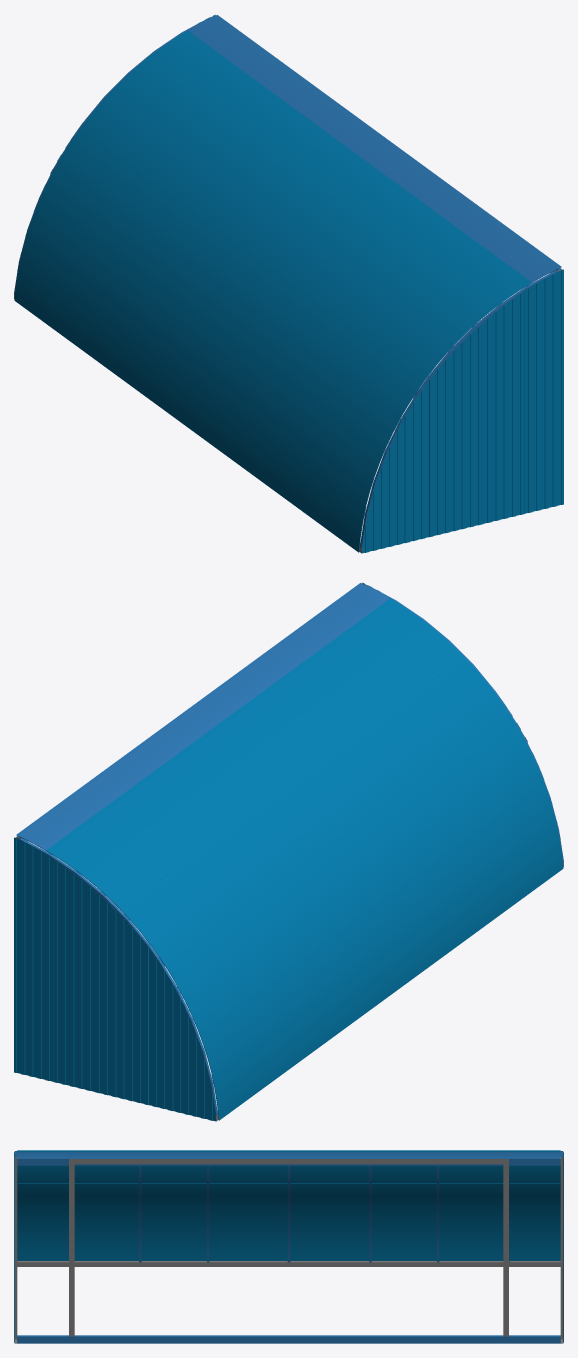
Rendered from Phase01_CanopyRight.fbx.
3 views of the same model, one above another, from view 1: azimuth 30°, elevation 25°; view 2: azimuth 150°, elevation 25°; view 3: azimuth 270°, elevation 25° (orthographic). The views are drawn at different scales.
Visible parts, largest first — view 1: RAL 5015 (×3), Проф лист 3 — копия:Проф лист 3 — копия:746985, Проф лист 3 2:Проф лист 3 2:755497, Проф лист 3:Проф лист 3:731216, Проф лист 3 — копия:Проф лист 3 — копия:760935, Проф лист 3 2:Проф лист 3 2:760088, Проф лист 3:Проф лист 3:761790, Проф лист 3 2 — копия:Проф лист 3 2 — копия:757336, Проф лист 3 2 — копия:Проф лист 3 2 — копия:759236, Проф лист 4:Проф лист 4:726611, Проф лист 4:Проф лист 4:762641, Фланец-балка вертикальная:Фланец-балка вертикальная:719820; view 2: RAL 5015 (×3), Проф лист 3 — копия:Проф лист 3 — копия:746985, Проф лист 3 2:Проф лист 3 2:755497, Проф лист 3:Проф лист 3:731216, Проф лист 3 — копия:Проф лист 3 — копия:760935, Проф лист 3 2:Проф лист 3 2:760088, Проф лист 3:Проф лист 3:761790, Проф лист 3 2 — копия:Проф лист 3 2 — копия:757336, Проф лист 3 2 — копия:Проф лист 3 2 — копия:759236, Проф лист 4:Проф лист 4:726611, Проф лист 4:Проф лист 4:762641, Фланец-балка вертикальная:Фланец-балка вертикальная:720843; view 3: Проф лист 3 2:Проф лист 3 2:755497, Проф лист 3 2:Проф лист 3 2:760088, Проф лист 3 2 — копия:Проф лист 3 2 — копия:757336, Проф лист 3 2 — копия:Проф лист 3 2 — копия:759236, Проф лист 3 — копия:Проф лист 3 — копия:746985, Швелер-опора:Швелер-опора:716326, Проф лист 3 — копия:Проф лист 3 — копия:760935, По умолчанию (×4), Балка 40-80:Балка 40-80:713323, Швелер-опора:Швелер-опора:740255, Фланец-балка:Фланец-балка:717290, Проф лист 4:Проф лист 4:726611 (+8 smaller).
Part boxes in pixels (left/top/right/bottom): RAL 5015 (×3): left=361, top=269, right=563, bottom=553; Проф лист 3 — копия:Проф лист 3 — копия:746985: left=56, top=89, right=306, bottom=307; Проф лист 3 2:Проф лист 3 2:755497: left=21, top=167, right=249, bottom=395; Проф лист 3:Проф лист 3:731216: left=114, top=30, right=380, bottom=230; Проф лист 3 — копия:Проф лист 3 — копия:760935: left=249, top=231, right=457, bottom=418; Проф лист 3 2:Проф лист 3 2:760088: left=215, top=308, right=400, bottom=506; Проф лист 3:Проф лист 3:761790: left=307, top=172, right=531, bottom=340; Проф лист 3 2 — копия:Проф лист 3 2 — копия:757336: left=14, top=255, right=214, bottom=441; Проф лист 3 2 — копия:Проф лист 3 2 — копия:759236: left=208, top=396, right=366, bottom=552; Проф лист 4:Проф лист 4:726611: left=188, top=15, right=410, bottom=171; Проф лист 4:Проф лист 4:762641: left=381, top=156, right=561, bottom=282; Фланец-балка вертикальная:Фланец-балка вертикальная:719820: left=360, top=270, right=557, bottom=547; RAL 5015 (×3): left=14, top=837, right=216, bottom=1121; Проф лист 3 — копия:Проф лист 3 — копия:746985: left=120, top=767, right=370, bottom=986; Проф лист 3 2:Проф лист 3 2:755497: left=177, top=845, right=405, bottom=1074; Проф лист 3:Проф лист 3:731216: left=46, top=709, right=313, bottom=908; Проф лист 3 — копия:Проф лист 3 — копия:760935: left=314, top=657, right=521, bottom=844; Проф лист 3 2:Проф лист 3 2:760088: left=371, top=735, right=556, bottom=932; Проф лист 3:Проф лист 3:761790: left=240, top=598, right=463, bottom=766; Проф лист 3 2 — копия:Проф лист 3 2 — копия:757336: left=211, top=933, right=412, bottom=1120; Проф лист 3 2 — копия:Проф лист 3 2 — копия:759236: left=405, top=823, right=563, bottom=978; Проф лист 4:Проф лист 4:726611: left=16, top=693, right=238, bottom=850; Проф лист 4:Проф лист 4:762641: left=210, top=583, right=389, bottom=708; Фланец-балка вертикальная:Фланец-балка вертикальная:720843: left=20, top=838, right=217, bottom=1115; Проф лист 3 2:Проф лист 3 2:755497: left=255, top=1183, right=560, bottom=1233; Проф лист 3 2:Проф лист 3 2:760088: left=17, top=1183, right=255, bottom=1233; Проф лист 3 2 — копия:Проф лист 3 2 — копия:757336: left=255, top=1233, right=560, bottom=1260; Проф лист 3 2 — копия:Проф лист 3 2 — копия:759236: left=17, top=1233, right=255, bottom=1260; Проф лист 3 — копия:Проф лист 3 — копия:746985: left=255, top=1165, right=560, bottom=1183; Швелер-опора:Швелер-опора:716326: left=17, top=1335, right=560, bottom=1343; Проф лист 3 — копия:Проф лист 3 — копия:760935: left=17, top=1165, right=255, bottom=1183; По умолчанию (×4): left=14, top=1157, right=563, bottom=1338; Балка 40-80:Балка 40-80:713323: left=17, top=1261, right=560, bottom=1266; Швелер-опора:Швелер-опора:740255: left=17, top=1157, right=560, bottom=1165; Фланец-балка:Фланец-балка:717290: left=69, top=1159, right=508, bottom=1164; Проф лист 4:Проф лист 4:726611: left=255, top=1152, right=560, bottom=1157.
Bounding box in the file's own units: 2868 × 8508 × 3185.
